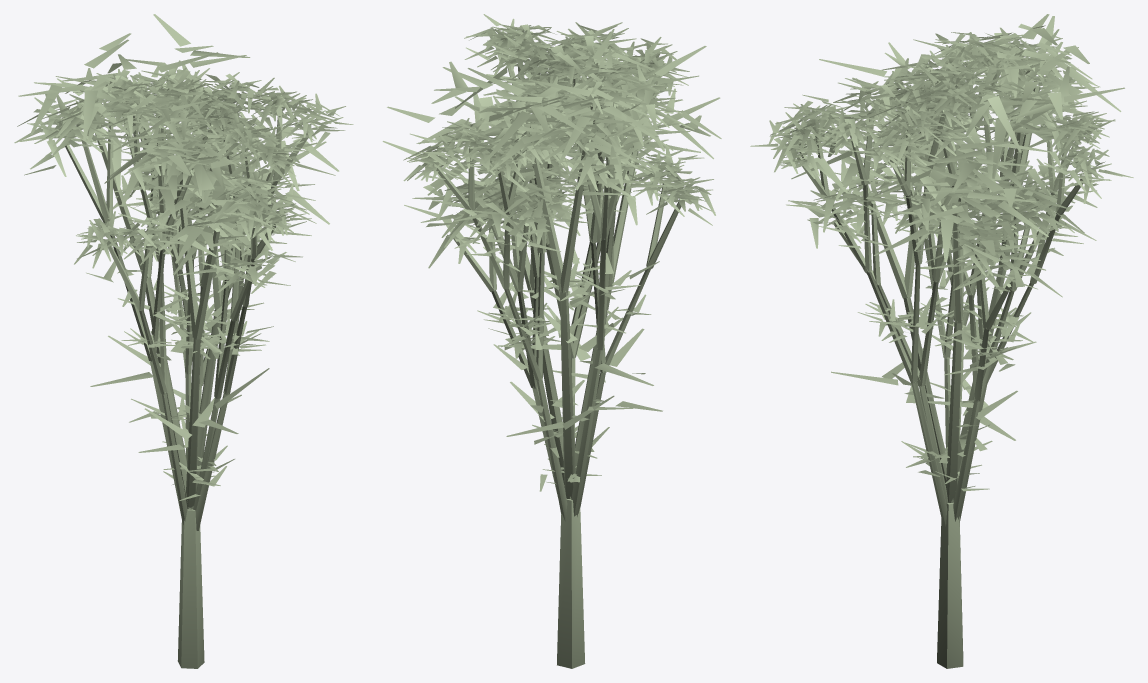
Rendered from tree_cottonwood_narrow.glb.
3 views of the same model, side by side, from view 1: azimuth 30°, elevation 25°; view 2: azimuth 150°, elevation 25°; view 3: azimuth 270°, elevation 25° (orthographic). The views are drawn at different scales.
Visible parts, largest first — view 1: tier2_foliage, tier1_foliage, tier0_foliage, tier0_bark, tier2_bark, tier1_bark; view 2: tier2_foliage, tier1_foliage, tier0_foliage, tier0_bark, tier1_bark, tier2_bark; view 3: tier2_foliage, tier1_foliage, tier0_foliage, tier2_bark, tier0_bark, tier1_bark.
Boxes of the visible parts, x1,y1,x2,y2 form: tier2_foliage: (74,60,353,500); tier1_foliage: (14,68,314,486); tier0_foliage: (18,14,339,452); tier0_bark: (95,116,263,668); tier2_bark: (108,106,308,530); tier1_bark: (65,113,250,522); tier2_foliage: (403,14,715,491); tier1_foliage: (404,29,698,458); tier0_foliage: (382,46,721,436); tier0_bark: (490,131,638,668); tier1_bark: (453,103,636,516); tier2_bark: (436,55,681,521); tier2_foliage: (750,27,1133,491); tier1_foliage: (786,23,1100,476); tier0_foliage: (782,14,1124,440); tier2_bark: (796,61,1084,526); tier0_bark: (858,85,1040,668); tier1_bark: (834,85,1039,521).
Size of the model in its own units: 0.5082 by 1 by 0.5682.
